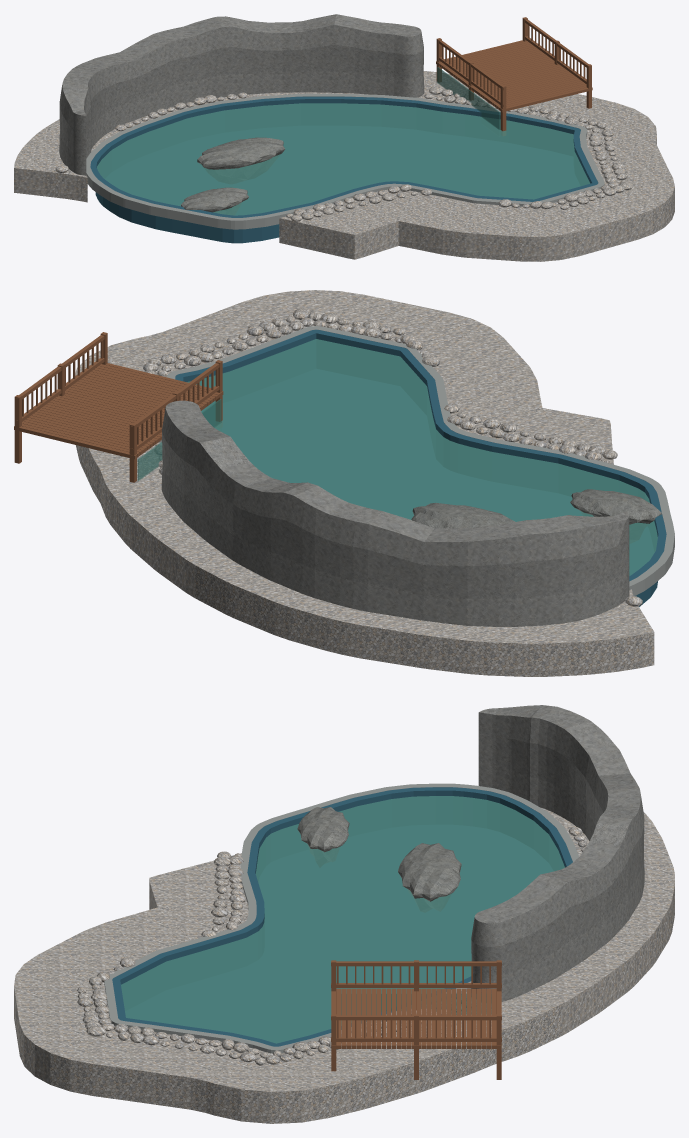
The model's file is penguen-havuzu.glb.
3 views of the same model, one above another, from view 1: azimuth 30°, elevation 25°; view 2: azimuth 150°, elevation 25°; view 3: azimuth 270°, elevation 25° (orthographic). The views are drawn at different scales.
Parts seen in each view (by area): view 1: blue_coping, pool_water, gravel_ground, artificial_cliff, wooden_viewing_deck, drain_band, bank_stones, emergent_rocks, green_viewing_panels; view 2: gravel_ground, artificial_cliff, blue_coping, pool_water, wooden_viewing_deck, bank_stones, drain_band, emergent_rocks, green_viewing_panels; view 3: blue_coping, gravel_ground, pool_water, artificial_cliff, wooden_viewing_deck, bank_stones, emergent_rocks, drain_band.
Part boxes in pixels (x1,y1,x2,y2): blue_coping: (90,96,598,243); pool_water: (97,103,590,215); gravel_ground: (14,71,674,261); artificial_cliff: (59,14,424,175); wooden_viewing_deck: (436,17,592,135); drain_band: (86,93,604,229); bank_stones: (55,86,632,221); emergent_rocks: (181,137,284,214); green_viewing_panels: (437,67,500,130); gravel_ground: (75,290,654,676); artificial_cliff: (161,400,629,626); blue_coping: (175,329,666,606); pool_water: (186,339,657,575); wooden_viewing_deck: (14,332,223,482); bank_stones: (143,308,642,606); drain_band: (167,326,674,595); emergent_rocks: (411,489,661,543); green_viewing_panels: (137,399,221,480); blue_coping: (112,787,572,1046); gravel_ground: (14,808,674,1123); pool_water: (121,796,564,1043); artificial_cliff: (471,705,644,1001); wooden_viewing_deck: (331,960,501,1079); bank_stones: (77,827,586,1065); emergent_rocks: (297,807,461,911); drain_band: (104,783,578,1053).
Size of the model in its own units: 28.03 by 4.76 by 23.61.
Materials: 9 (4 with a texture image).
